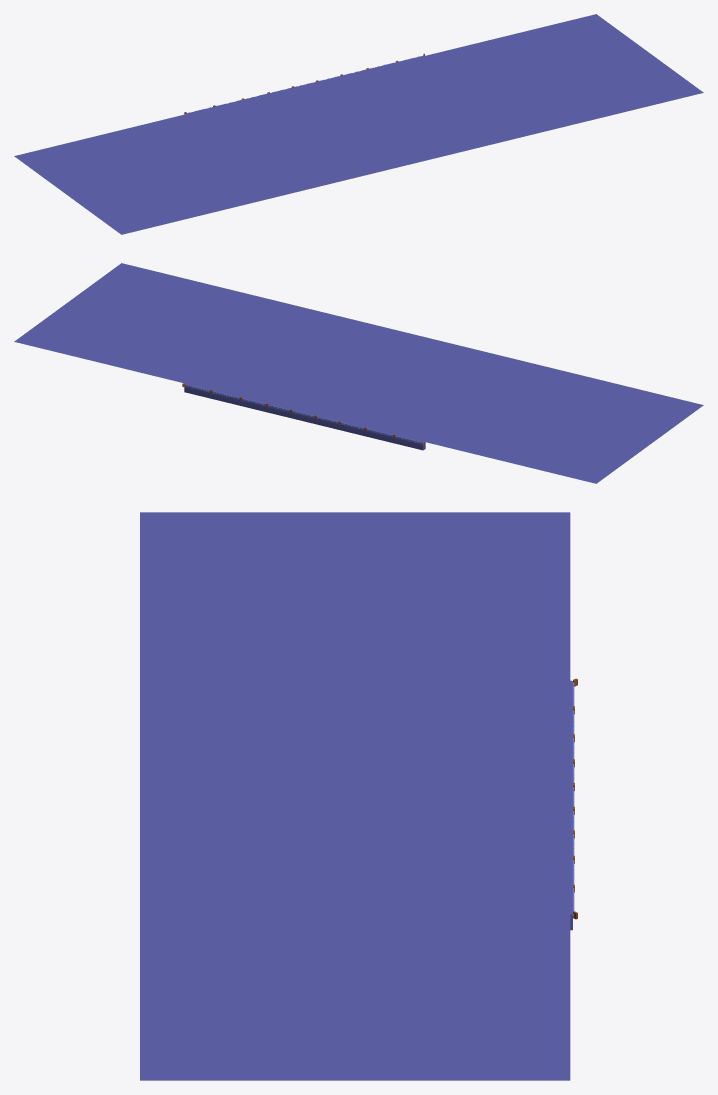
File: BackWall.fbx
3 views of the same model, one above another, from view 1: azimuth 30°, elevation 25°; view 2: azimuth 150°, elevation 25°; view 3: azimuth 270°, elevation 25° (orthographic). The views are drawn at different scales.
Visible parts, largest first — view 1: pCube363, WallBack; view 2: pCube363, WallBack; view 3: pCube363, WallBack.
Boxes of the visible parts, <box> form: pCube363: <box>14,14,703,234</box>; WallBack: <box>184,53,425,114</box>; pCube363: <box>14,263,703,483</box>; WallBack: <box>182,382,425,450</box>; pCube363: <box>140,512,570,1080</box>; WallBack: <box>563,678,577,930</box>.
Size of the model in its own units: 7.69 by 0.1139 by 2.5.
